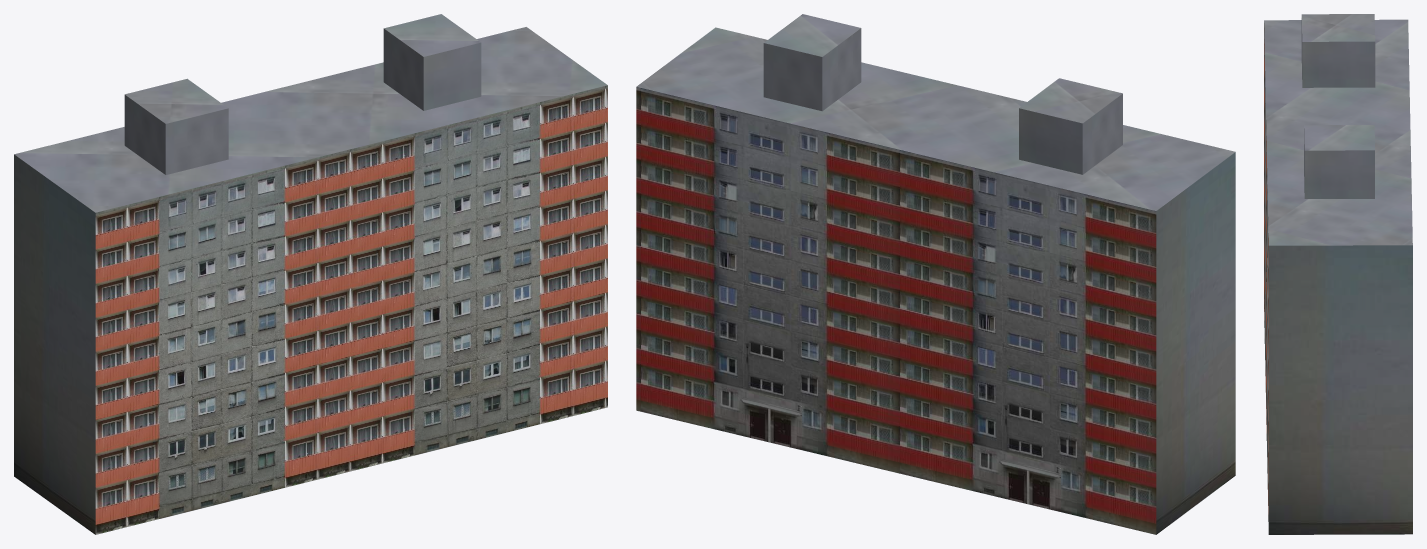
The model's file is maja3.dae.
The picture shows the model from 3 angles, left to right: view 1: azimuth 30°, elevation 25°; view 2: azimuth 150°, elevation 25°; view 3: azimuth 270°, elevation 25°; orthographic projection. The views are drawn at different scales.
Parts seen in each view (by area): view 1: Sketchup.001; view 2: Sketchup.001; view 3: Sketchup.001.
Part boxes in pixels (x1=…): Sketchup.001: x1=14, y1=14, x2=607, y2=534; Sketchup.001: x1=636, y1=14, x2=1235, y2=534; Sketchup.001: x1=1264, y1=14, x2=1412, y2=534.
Size of the model in its own units: 45.23 by 12.58 by 31.5.
